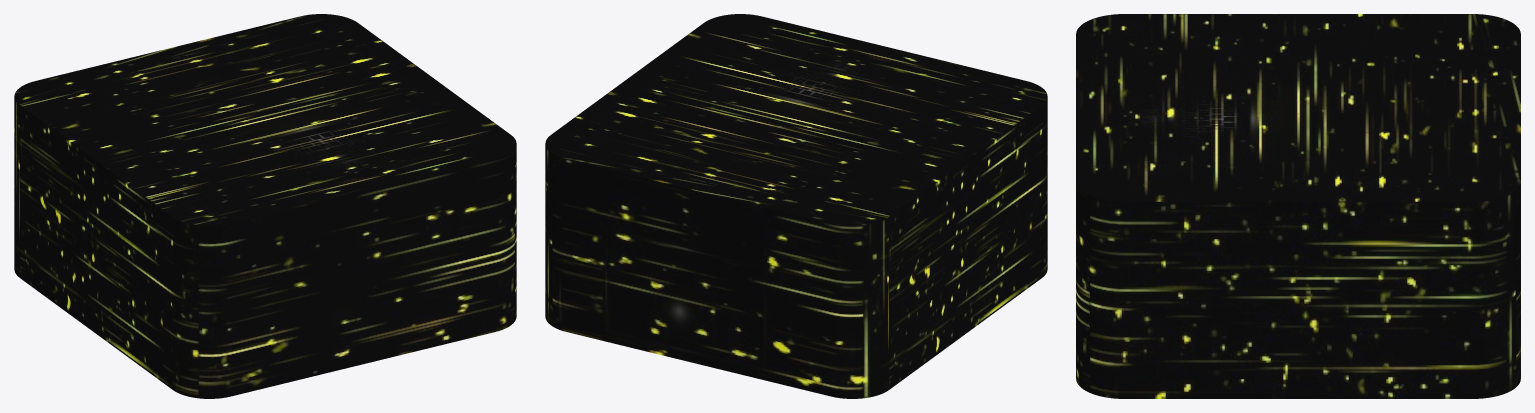
The model's file is Light_bake_Laptopglb.glb.
3 views of the same model, side by side, from view 1: azimuth 30°, elevation 25°; view 2: azimuth 150°, elevation 25°; view 3: azimuth 270°, elevation 25° (orthographic). The views are drawn at different scales.
Parts seen in each view (by area): view 1: chara.003; view 2: chara.003; view 3: chara.003.
Boxes of the visible parts, x1,y1,x2,y2 form: chara.003: (14, 14, 516, 398); chara.003: (545, 14, 1047, 398); chara.003: (1076, 14, 1520, 398).
Size of the model in its own units: 10.39 by 5.07 by 10.39.
Materials: 4 (3 with a texture image).
